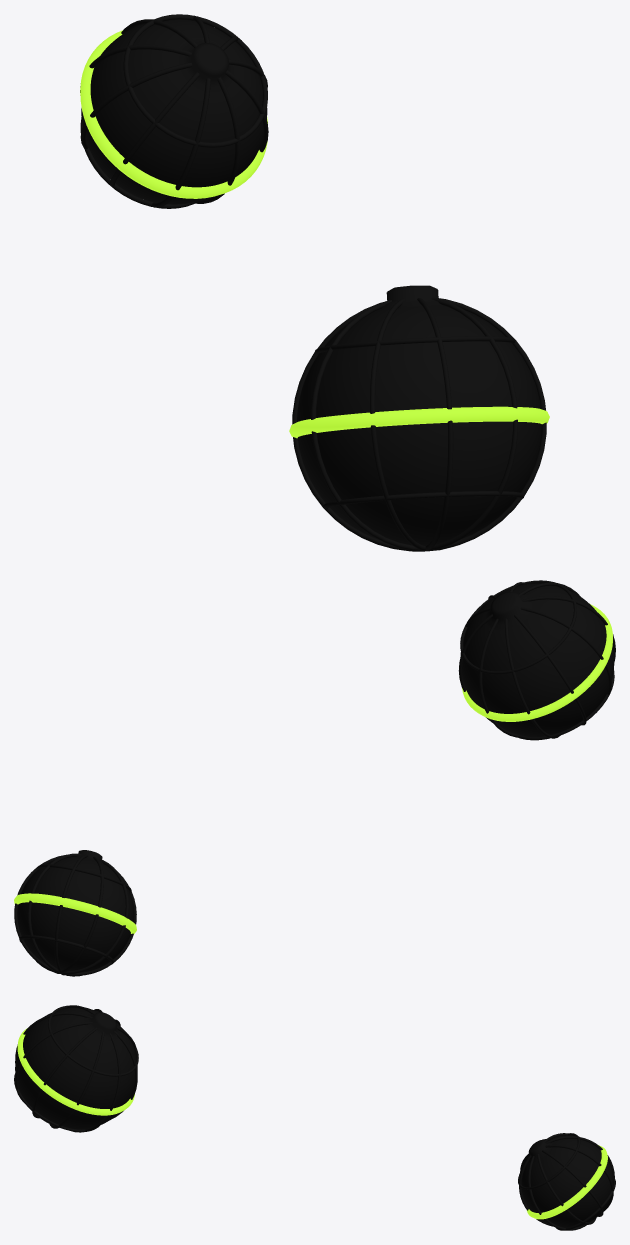
3 views of the same model, one above another, from view 1: azimuth 30°, elevation 25°; view 2: azimuth 150°, elevation 25°; view 3: azimuth 270°, elevation 25° (orthographic). The views are drawn at different scales.
Visible parts, largest first — view 1: ball_00, ball_01, band_00, band_01, net_00_m4, net_01_l1, net_00_m0, net_00_m3, net_00_m1, net_00_m2, net_01_m2, net_01_m3 (+5 smaller); view 2: ball_00, ball_01, band_00, band_01, net_00_l1, net_01_m0, net_00_m1, net_00_m2, net_00_m0, net_01_m4, net_01_m1, net_00_m3; view 3: ball_00, ball_01, band_00, band_01, net_00_m2, net_00_l1, net_01_m2, net_00_m1, net_00_m3, net_01_m3, net_01_m1, net_00_m0 (+2 smaller).
Boxes of the visible parts, left/top/right/bottom form: ball_00: left=297, top=285, right=541, bottom=545; ball_01: left=81, top=19, right=267, bottom=204; band_00: left=289, top=406, right=549, bottom=438; band_01: left=80, top=30, right=267, bottom=198; net_00_m4: left=292, top=298, right=546, bottom=551; net_01_l1: left=123, top=14, right=267, bottom=147; net_00_m0: left=311, top=300, right=453, bottom=551; net_00_m3: left=412, top=297, right=517, bottom=551; net_00_m1: left=370, top=298, right=425, bottom=551; net_00_m2: left=417, top=298, right=453, bottom=551; net_01_m2: left=121, top=19, right=240, bottom=203; net_01_m3: left=80, top=44, right=268, bottom=152; ball_00: left=460, top=583, right=614, bottom=736; ball_01: left=17, top=850, right=133, bottom=972; band_00: left=462, top=604, right=612, bottom=721; band_01: left=14, top=893, right=136, bottom=933; net_00_l1: left=460, top=580, right=576, bottom=674; net_01_m0: left=14, top=854, right=136, bottom=975; net_00_m1: left=458, top=596, right=615, bottom=691; net_00_m2: left=479, top=582, right=580, bottom=737; net_00_m0: left=465, top=607, right=611, bottom=694; net_01_m4: left=35, top=859, right=128, bottom=974; net_01_m1: left=27, top=853, right=81, bottom=976; net_00_m3: left=504, top=582, right=560, bottom=738; ball_00: left=15, top=1007, right=137, bottom=1129; ball_01: left=521, top=1135, right=613, bottom=1227; band_00: left=17, top=1028, right=134, bottom=1115; band_01: left=526, top=1145, right=607, bottom=1219; net_00_m2: left=15, top=1012, right=137, bottom=1119; net_00_l1: left=48, top=1005, right=138, bottom=1076; net_01_m2: left=519, top=1136, right=614, bottom=1226; net_00_m1: left=67, top=1005, right=120, bottom=1132; net_00_m3: left=15, top=1022, right=136, bottom=1102; net_01_m3: left=528, top=1133, right=587, bottom=1230; net_01_m1: left=520, top=1144, right=613, bottom=1211; net_00_m0: left=49, top=1009, right=104, bottom=1128.
Bounding box in the file's own units: 3.97 × 2.67 × 9.33.
